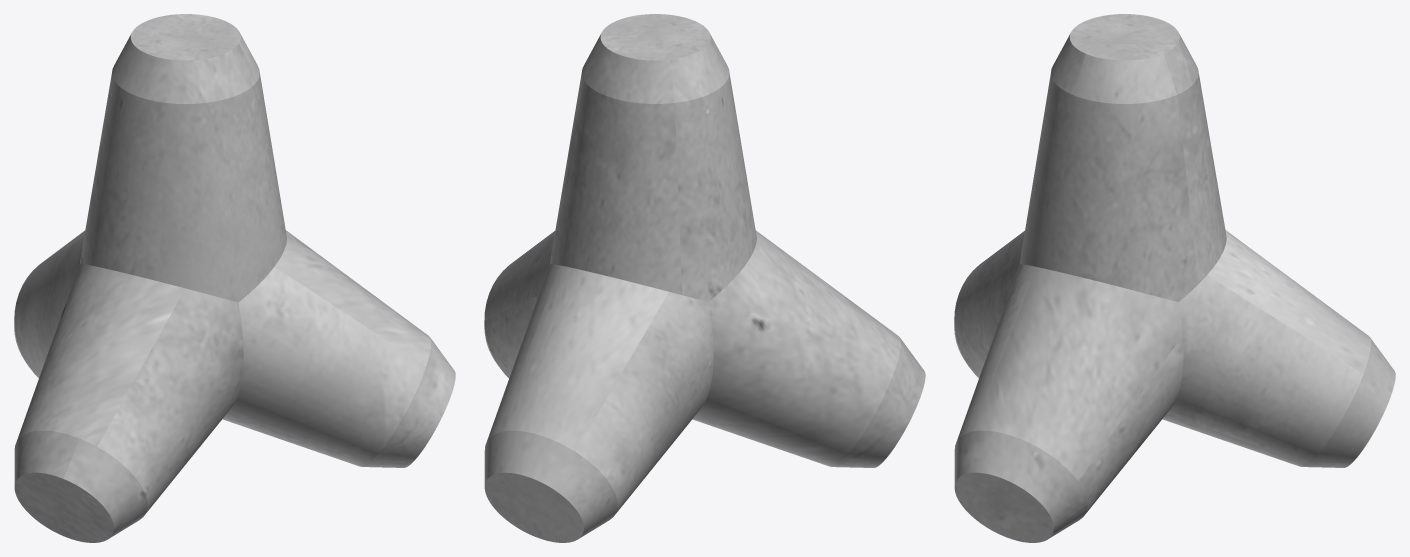
The model's file is Tetorapod.fbx.
3 renders of one model, left to right at view 1: azimuth 30°, elevation 25°; view 2: azimuth 150°, elevation 25°; view 3: azimuth 270°, elevation 25°, orthographic.
Visible parts, largest first — view 1: Empty_Mesh; view 2: Empty_Mesh; view 3: Empty_Mesh.
Part boxes in pixels (bbox=[...]): Empty_Mesh: bbox=[14, 14, 455, 542]; Empty_Mesh: bbox=[484, 14, 925, 542]; Empty_Mesh: bbox=[954, 14, 1395, 542].
Bounding box in the file's own units: 2.96 × 2.81 × 2.65.
